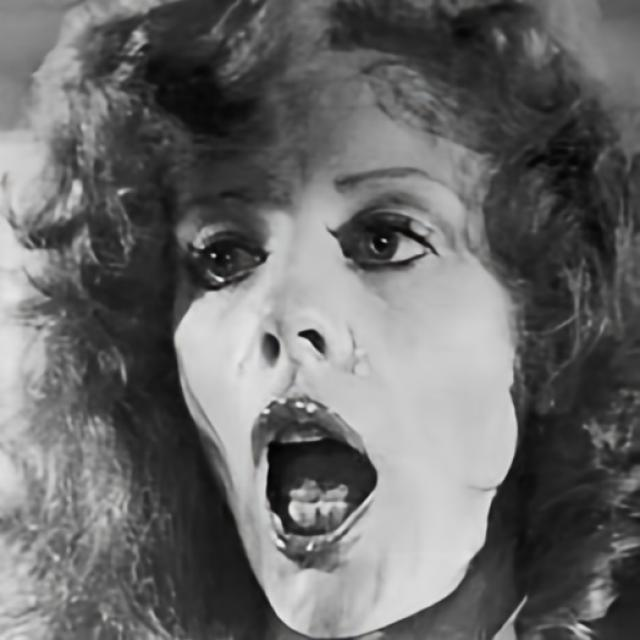surprise: (168, 42, 526, 640)
